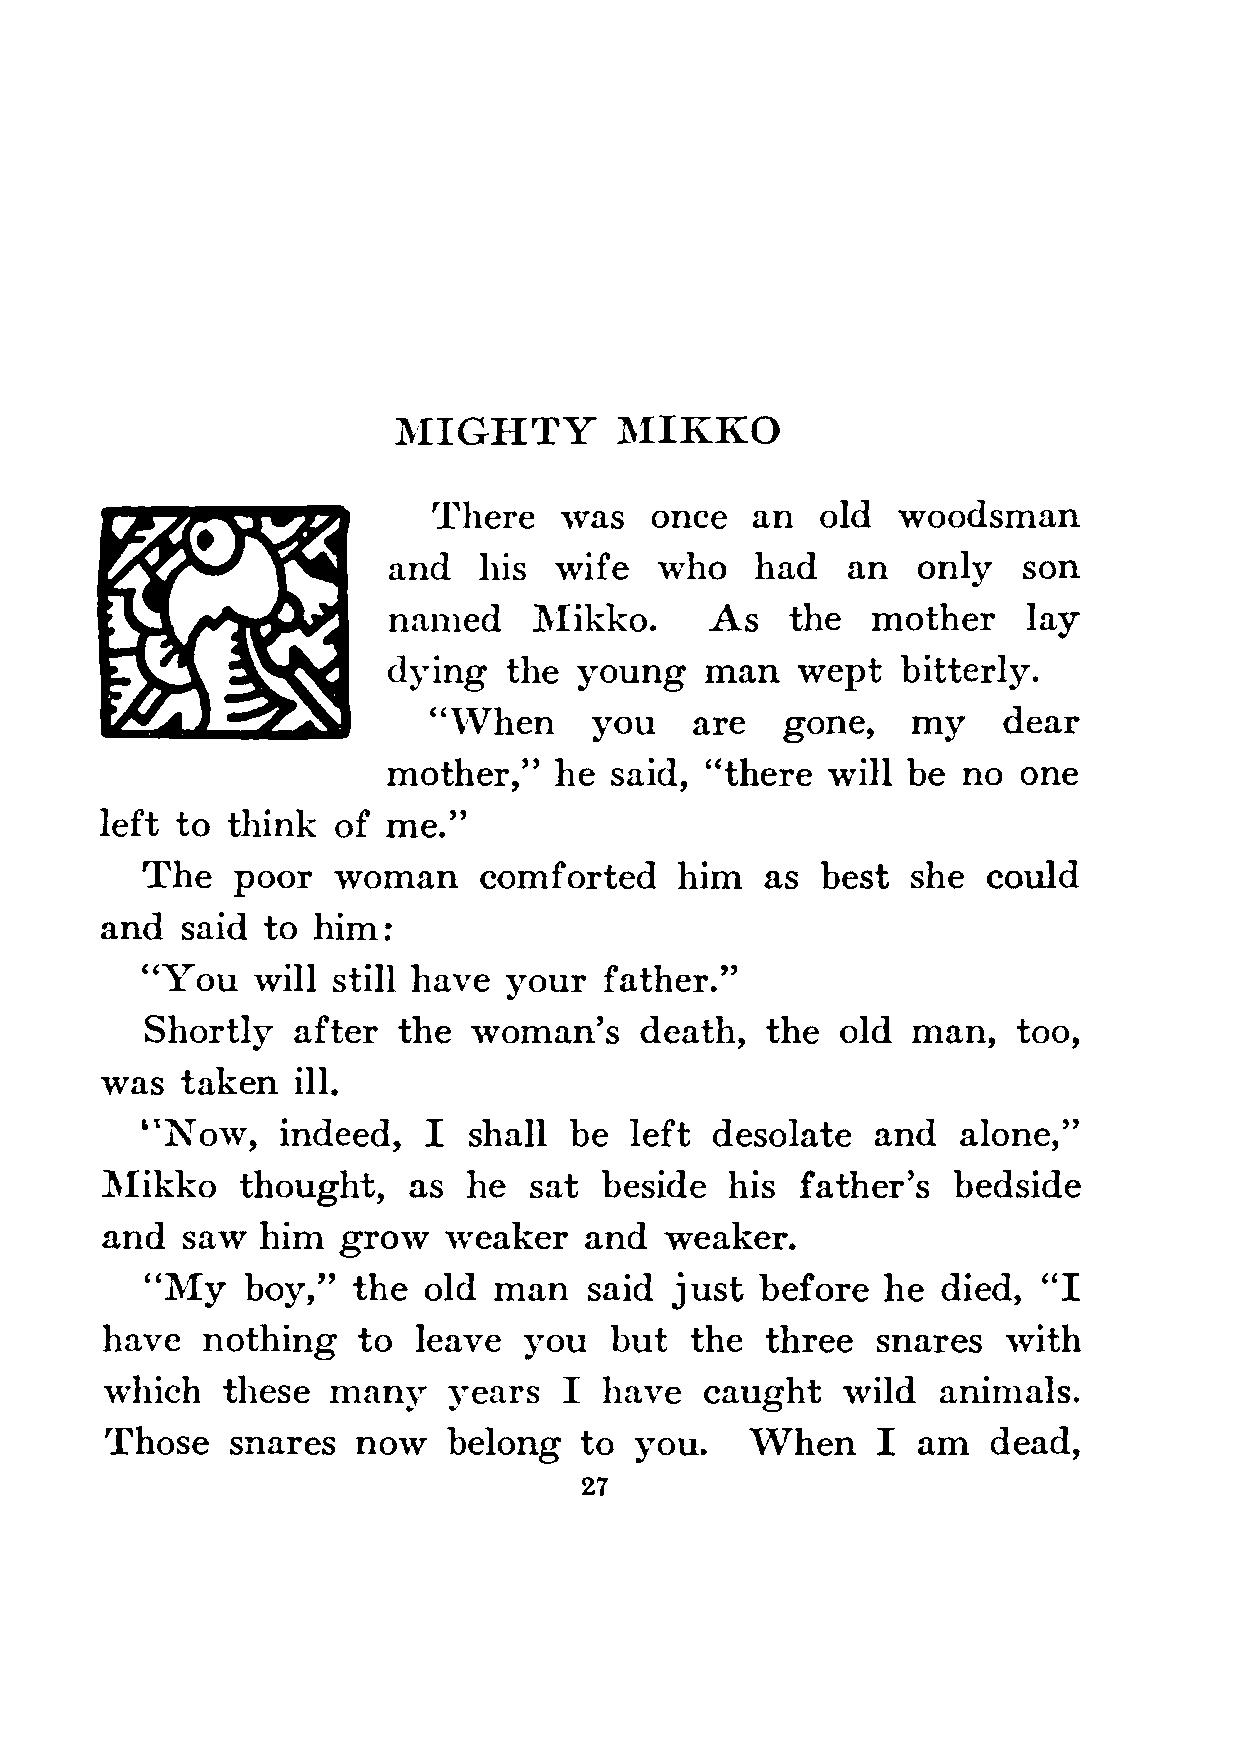chapter: (392, 411, 781, 446)
content: (93, 497, 1084, 1465)
content_pagenumber: (578, 1469, 611, 1500)
